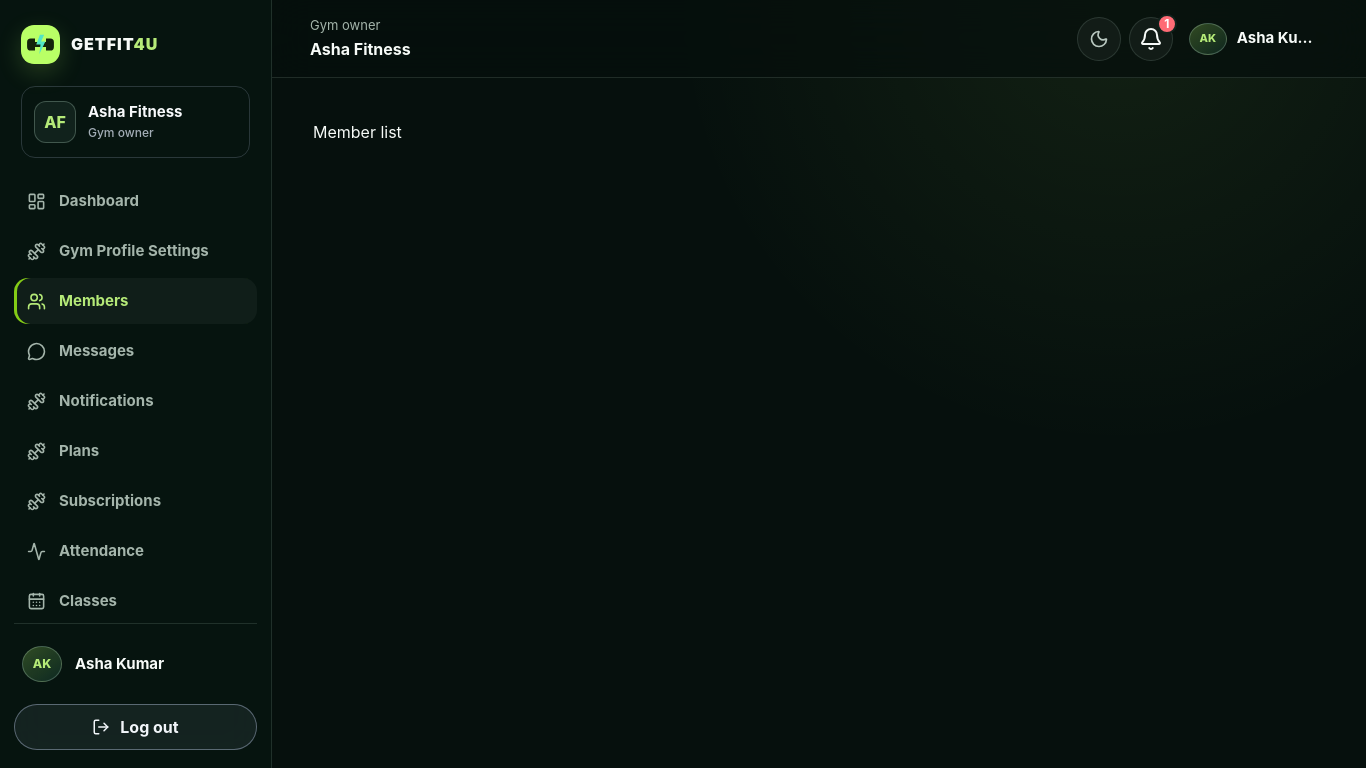
Test: opens the canonical profile when the user's name is clicked
The width and height of the screenshot is (1366, 768).
Step 1. Click the link with class "topbar-profile" → (1254, 38), box [1181,16,1328,60]
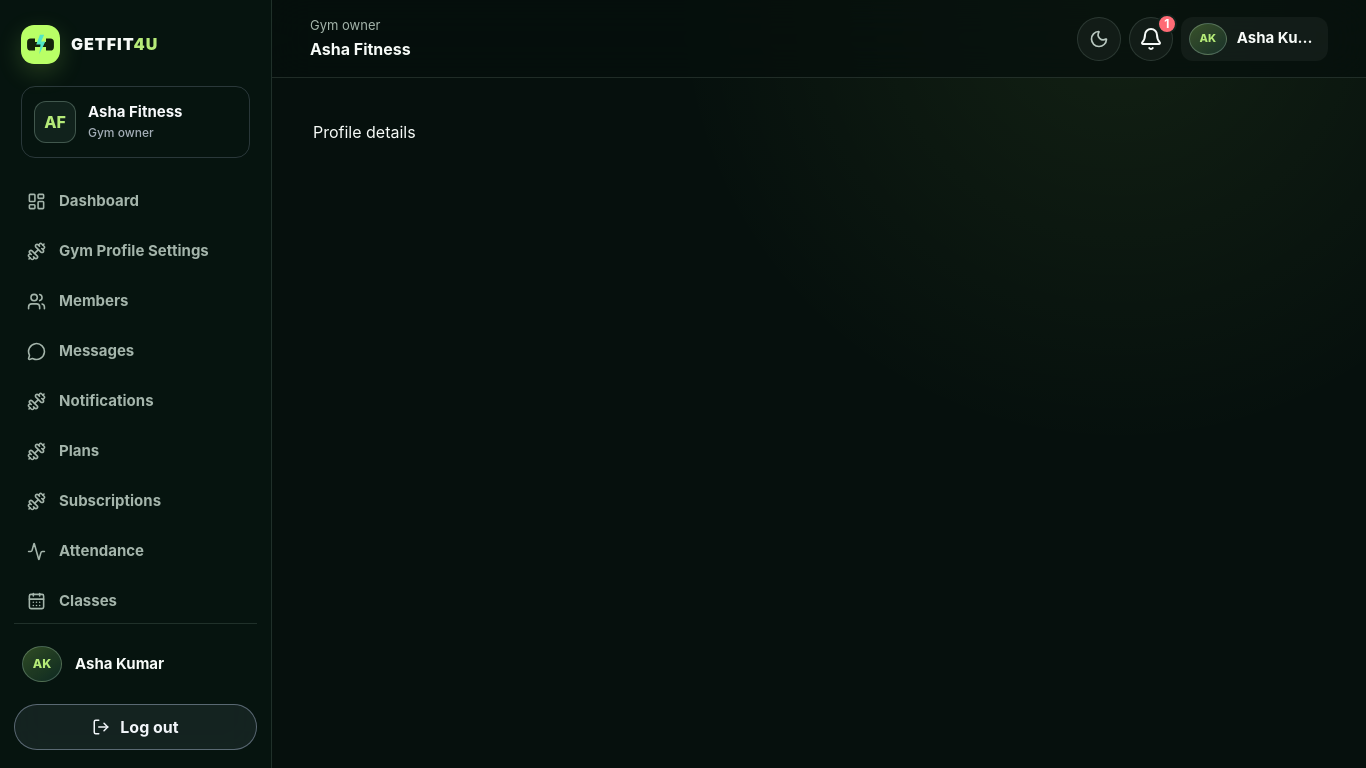
Expected: the element with class "topbar-title" shows "Asha Fitness", [310,39,411,59]
Result: the text "Profile details" is shown at [313,122,416,142]
